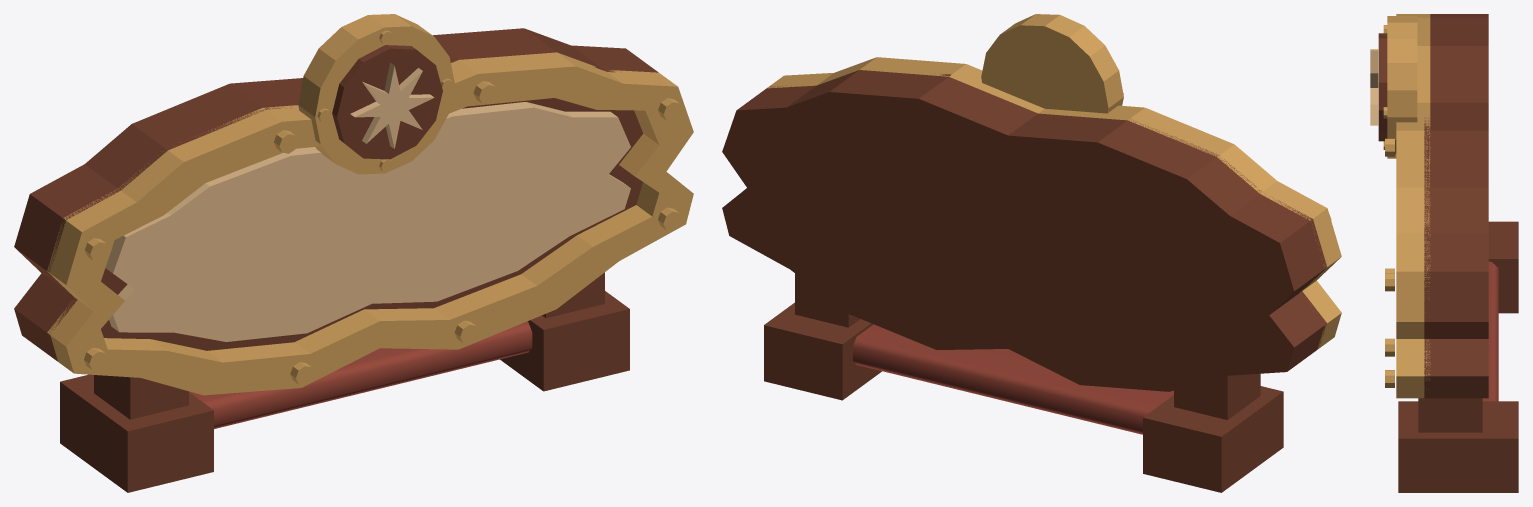
File: Jugar.fbx
The picture shows the model from 3 angles, left to right: view 1: azimuth 30°, elevation 25°; view 2: azimuth 150°, elevation 25°; view 3: azimuth 270°, elevation 25°; orthographic projection. The views are drawn at different scales.
Visible parts, largest first — view 1: JUGAR_Placa_textura_sin_texto, JUGAR_Remache.007, JUGAR_Estructura_madera, JUGAR_Remache.008, JUGAR_Travesaño_inferior, JUGAR_Medallón_centro, JUGAR_Estrella_grabada; view 2: JUGAR_Estructura_madera, JUGAR_Travesaño_inferior, JUGAR_Remache.008, JUGAR_Remache.007; view 3: JUGAR_Estructura_madera, JUGAR_Remache.007, JUGAR_Remache.008, JUGAR_Travesaño_inferior, JUGAR_Medallón_centro, JUGAR_Estrella_grabada.
Boxes of the visible parts, <box> form: JUGAR_Placa_textura_sin_texto: <box>105,102,630,341</box>; JUGAR_Remache.007: <box>47,52,693,395</box>; JUGAR_Estructura_madera: <box>14,28,658,492</box>; JUGAR_Remache.008: <box>298,14,454,174</box>; JUGAR_Travesaño_inferior: <box>189,321,532,428</box>; JUGAR_Medallón_centro: <box>332,45,442,159</box>; JUGAR_Estrella_grabada: <box>350,62,434,148</box>; JUGAR_Estructura_madera: <box>722,70,1327,492</box>; JUGAR_Travesaño_inferior: <box>853,324,1173,434</box>; JUGAR_Remache.008: <box>981,14,1123,113</box>; JUGAR_Remache.007: <box>767,57,1341,349</box>; JUGAR_Estructura_madera: <box>1398,14,1518,492</box>; JUGAR_Remache.007: <box>1385,14,1430,398</box>; JUGAR_Remache.008: <box>1383,16,1417,158</box>; JUGAR_Travesaño_inferior: <box>1482,261,1498,401</box>; JUGAR_Medallón_centro: <box>1378,33,1387,141</box>; JUGAR_Estrella_grabada: <box>1370,49,1378,125</box>.
Size of the model in its own units: 160 by 99.61 by 37.
